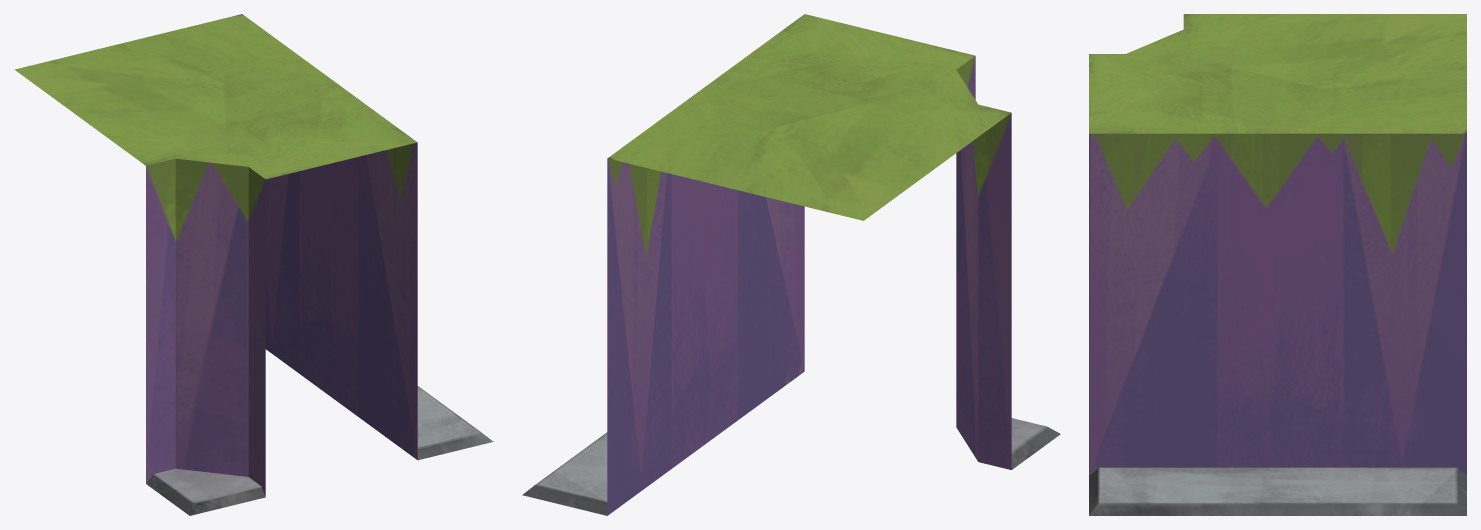
File: wall_thick_short_inside_crnr.fbx
The picture shows the model from 3 angles, left to right: view 1: azimuth 30°, elevation 25°; view 2: azimuth 150°, elevation 25°; view 3: azimuth 270°, elevation 25°; orthographic projection. The views are drawn at different scales.
Parts seen in each view (by area): view 1: wall_thick_short_inside_crnr; view 2: wall_thick_short_inside_crnr; view 3: wall_thick_short_inside_crnr.
Boxes of the visible parts, x1=… form: wall_thick_short_inside_crnr: x1=14, y1=14, x2=493, y2=515; wall_thick_short_inside_crnr: x1=522, y1=14, x2=1060, y2=515; wall_thick_short_inside_crnr: x1=1089, y1=14, x2=1466, y2=515.
Size of the model in its own units: 0.02 by 0.02 by 0.02.
